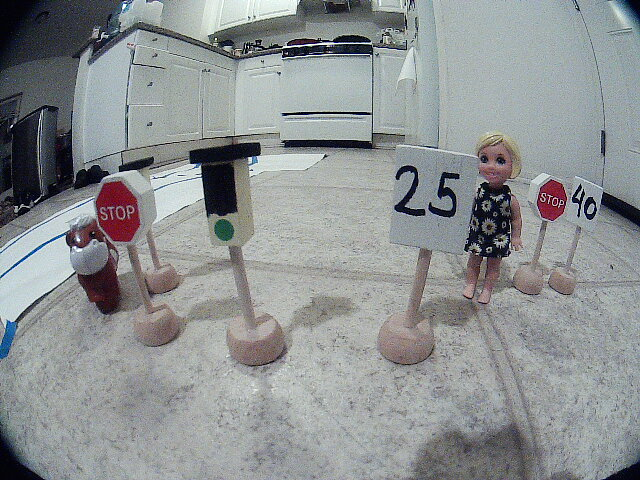Cow: (60, 214, 126, 320)
Green Traffic Light: (179, 145, 270, 265)
Person: (468, 131, 525, 315)
Speed Limit 25: (376, 137, 484, 264)
Speed Limit 40: (567, 173, 611, 239)
Stop Sign: (89, 174, 162, 247), (525, 164, 575, 240)
